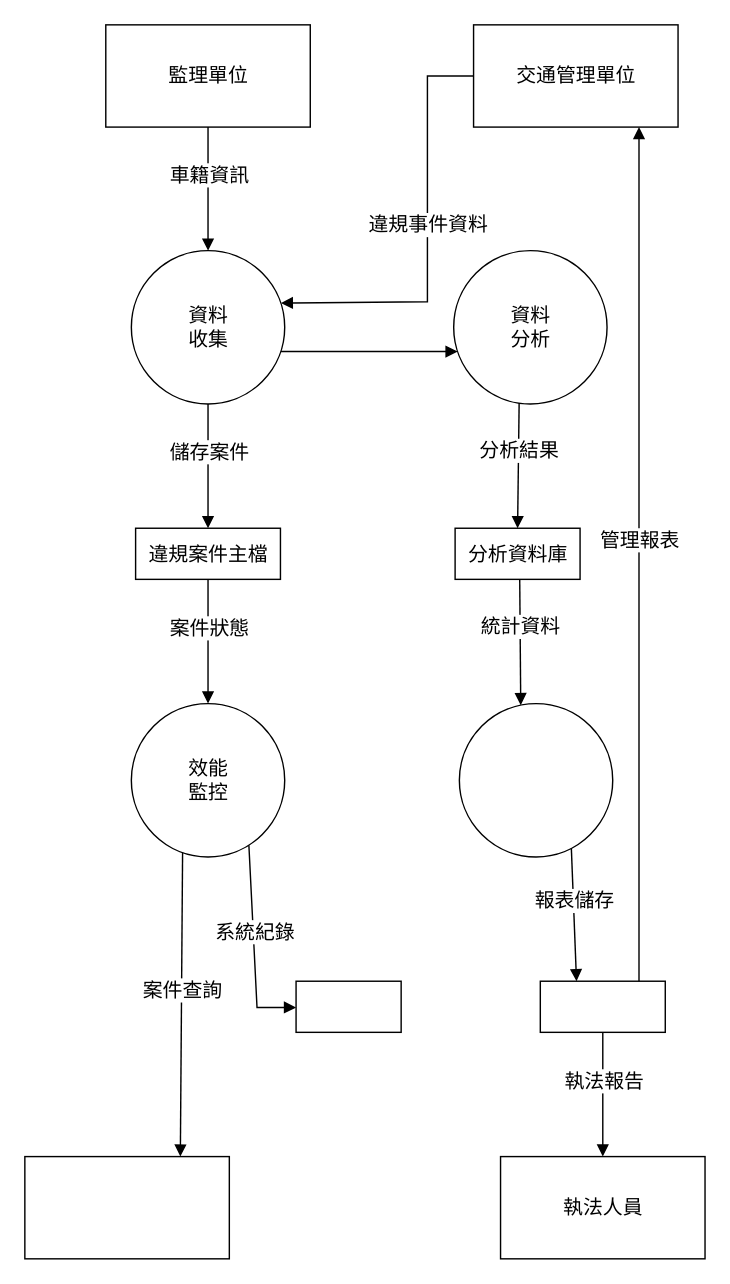
Some shapes in this 730 by 1284 pixel diagram are drawn without their labels. The centre of each missing label's shape, as x and y in pixels:
"使用記錄" goes at [348,1006].
"報表 產出" goes at [535,779].
"報表資料庫" goes at [602,1006].
"民眾服務窗口" goes at [126,1207].
